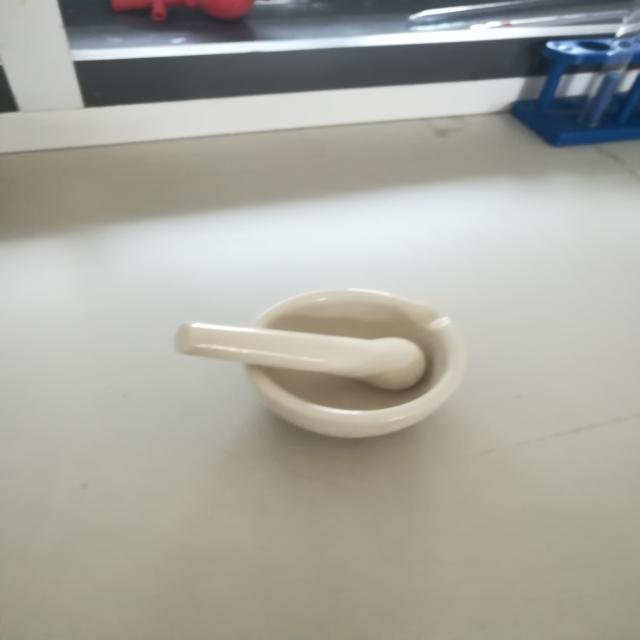Porcelain_Mortar Pestle: (145, 266, 495, 464)
